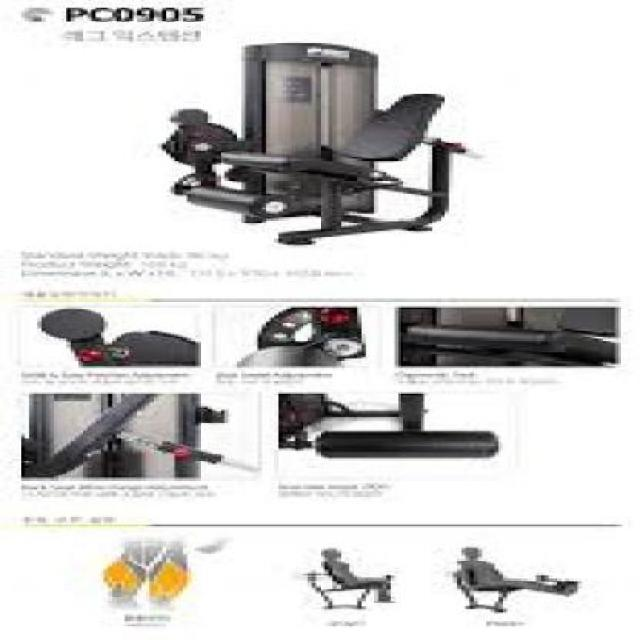leg extension: (134, 32, 488, 256)
